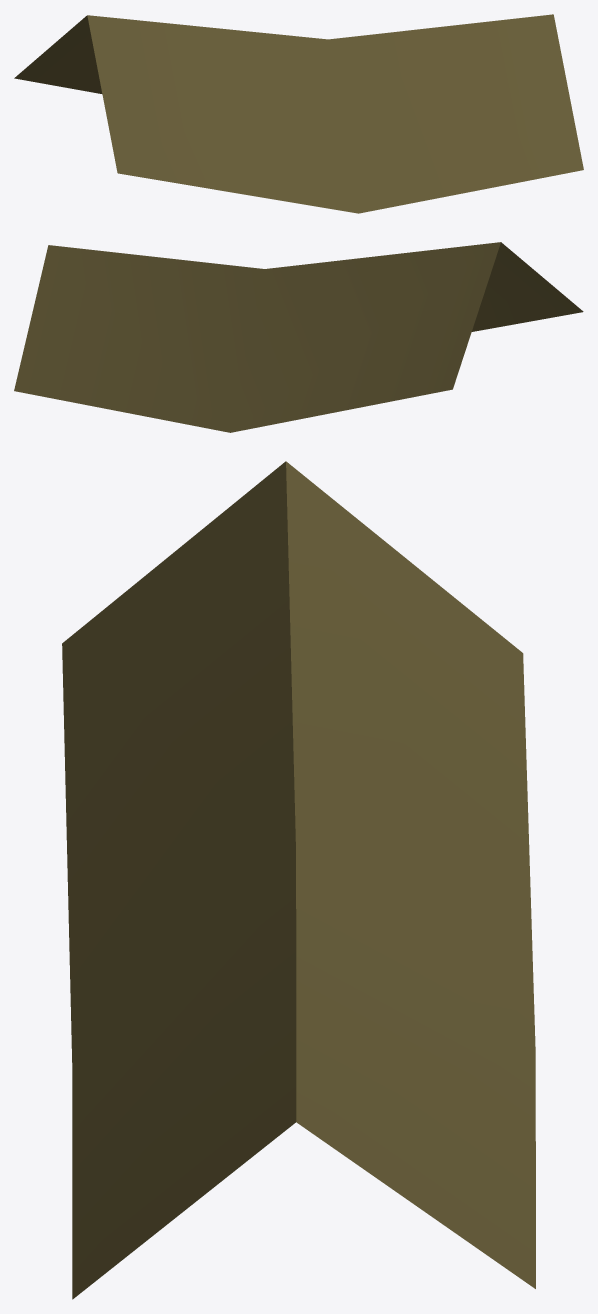
3 renders of one model, top to bottom at view 1: azimuth 30°, elevation 25°; view 2: azimuth 150°, elevation 25°; view 3: azimuth 270°, elevation 25°, orthographic. The views are drawn at different scales.
Parts seen in each view (by area): view 1: pCube15; view 2: pCube15; view 3: pCube15.
Part boxes in pixels (x1=…): pCube15: x1=14, y1=14, x2=583, y2=213; pCube15: x1=14, y1=242, x2=583, y2=432; pCube15: x1=62, y1=461, x2=535, y2=1299.
Bounding box in the file's own units: 149 × 63.4 × 63.96.
